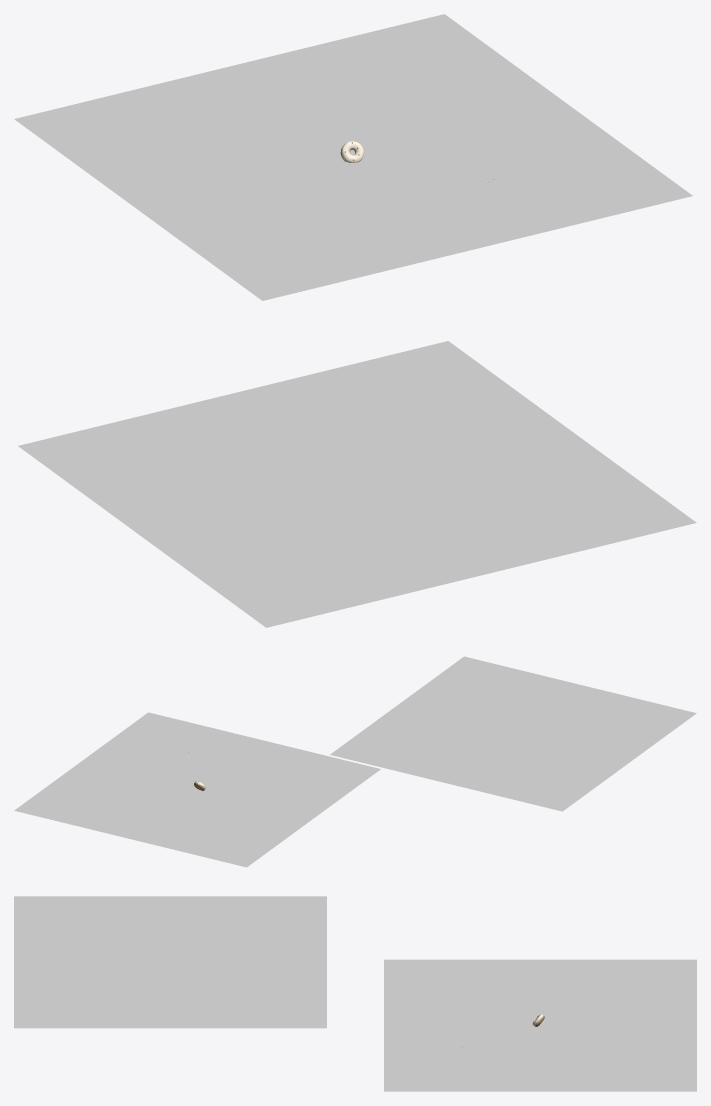
Rendered from Donut.f375a072.glb.
The picture shows the model from 3 angles, top to bottom: view 1: azimuth 30°, elevation 25°; view 2: azimuth 150°, elevation 25°; view 3: azimuth 270°, elevation 25°; orthographic projection. The views are drawn at different scales.
Visible parts, largest first — view 1: Plane.001, Plane; view 2: Plane.001, Plane; view 3: Plane.001, Plane.
Part boxes in pixels (x1,y1,x2,y2): Plane.001: (18,341,696,627); Plane: (14,14,692,300); Plane.001: (330,656,696,811); Plane: (14,712,380,867); Plane.001: (14,896,326,1028); Plane: (384,959,696,1091).
Size of the model in its own units: 3.35 by 0.2539 by 4.36.
4 materials, 1 textured.
